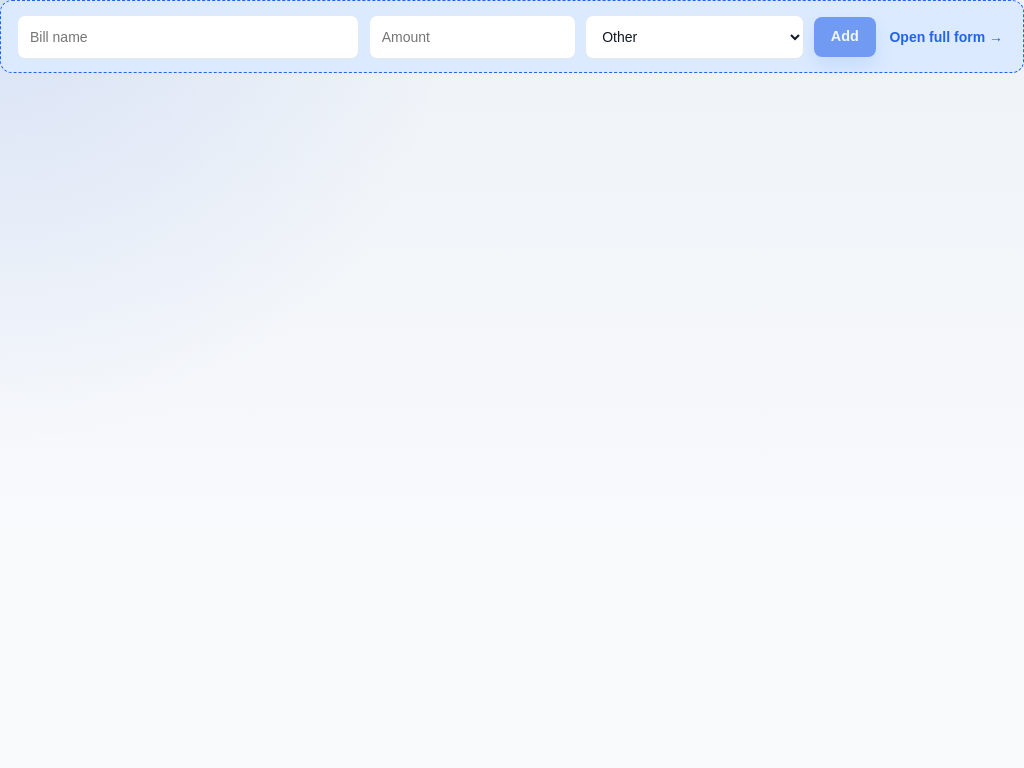
Scenario: QuickAddBar › shows an error toast when the request fails
Type "Gym" into the field labelled "Bill name" at (188, 37), box top-left (17, 15), bottom-right (359, 59)
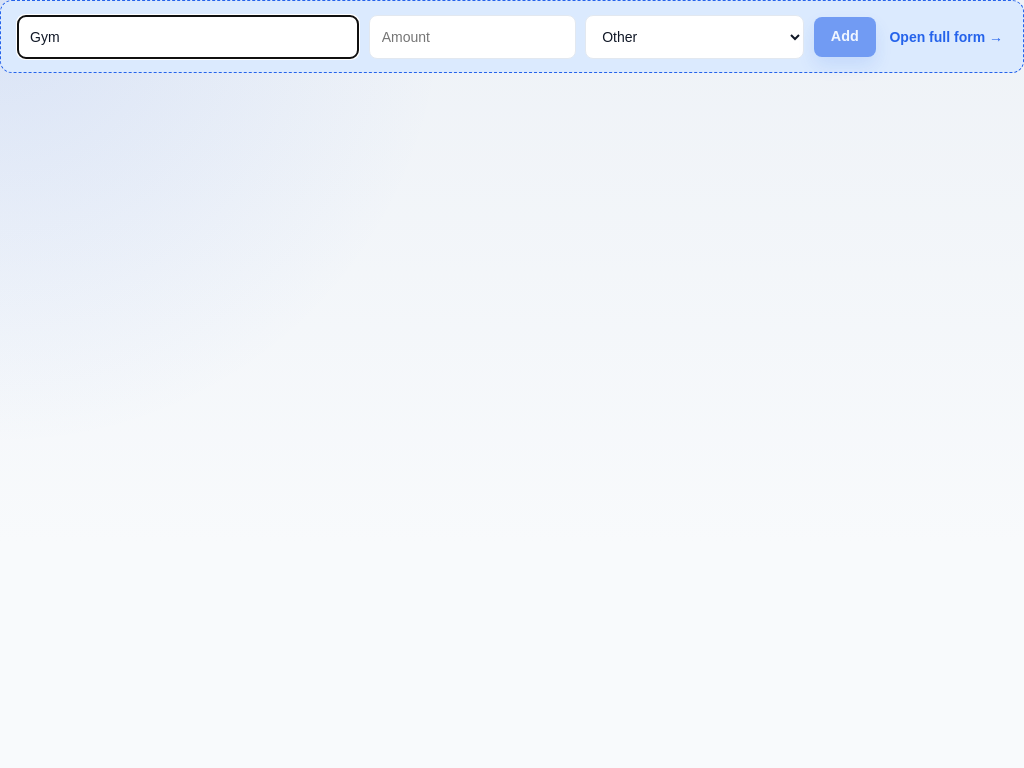
Type "40" into the number field labelled "Amount" at (472, 37), box top-left (369, 15), bottom-right (576, 59)
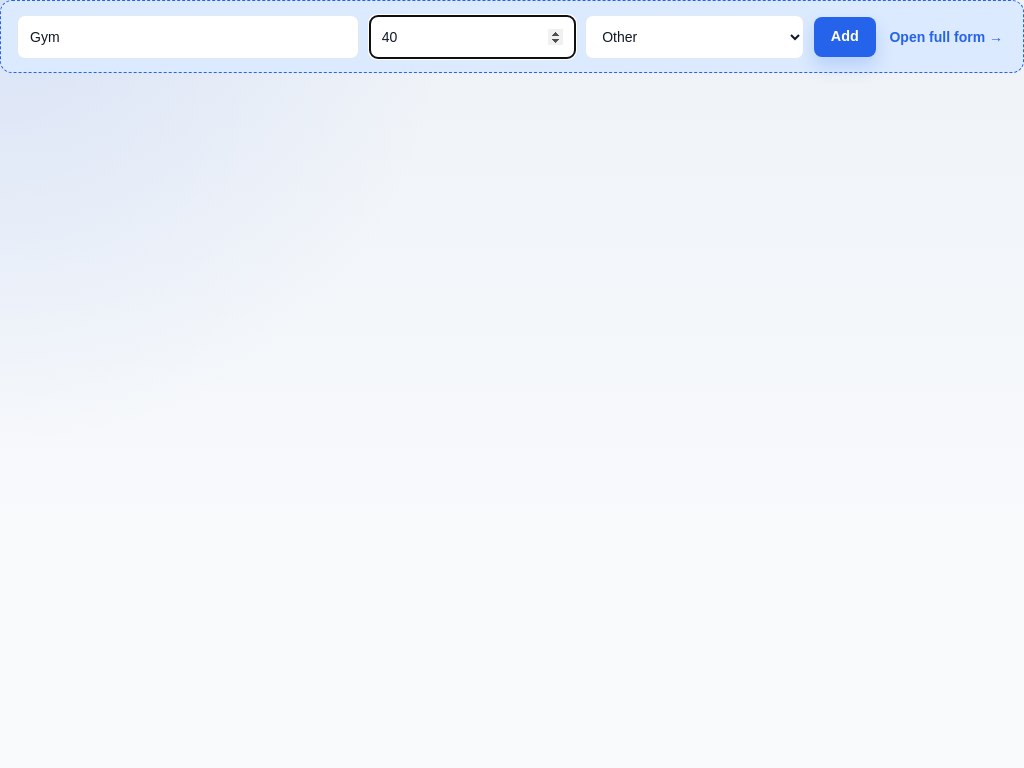
Click the button "Add" at (845, 37), box top-left (814, 17), bottom-right (876, 57)
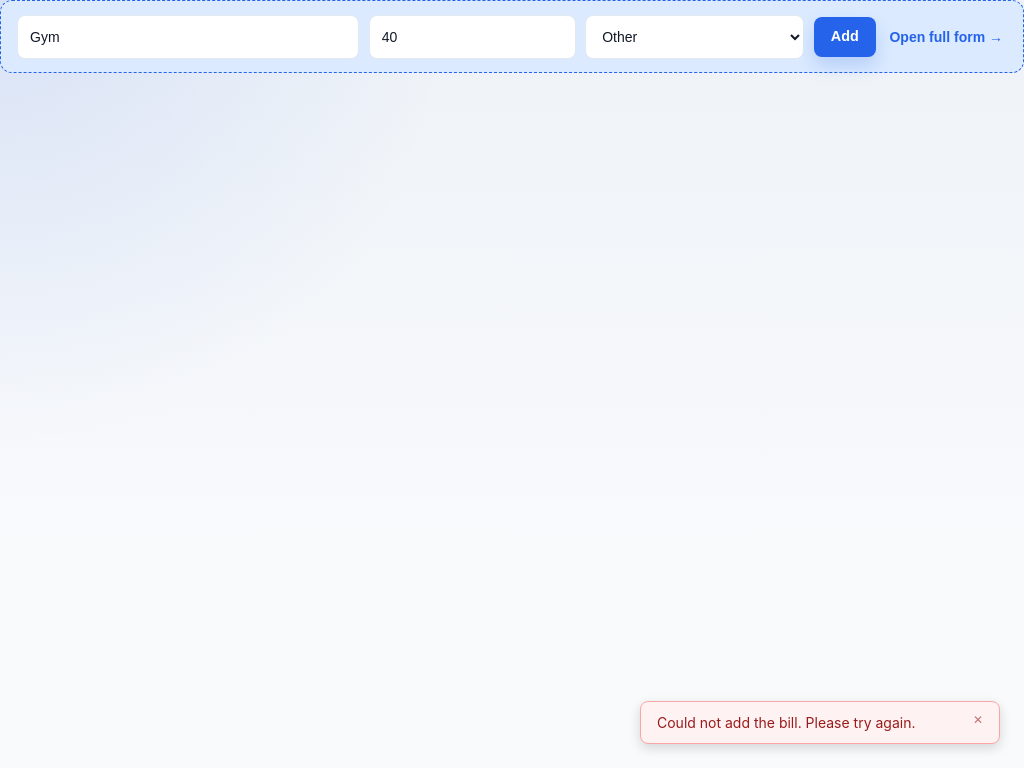
Expected: the text "Could not add the bill. Please try again." is shown, top-left (657, 714), bottom-right (961, 731)
